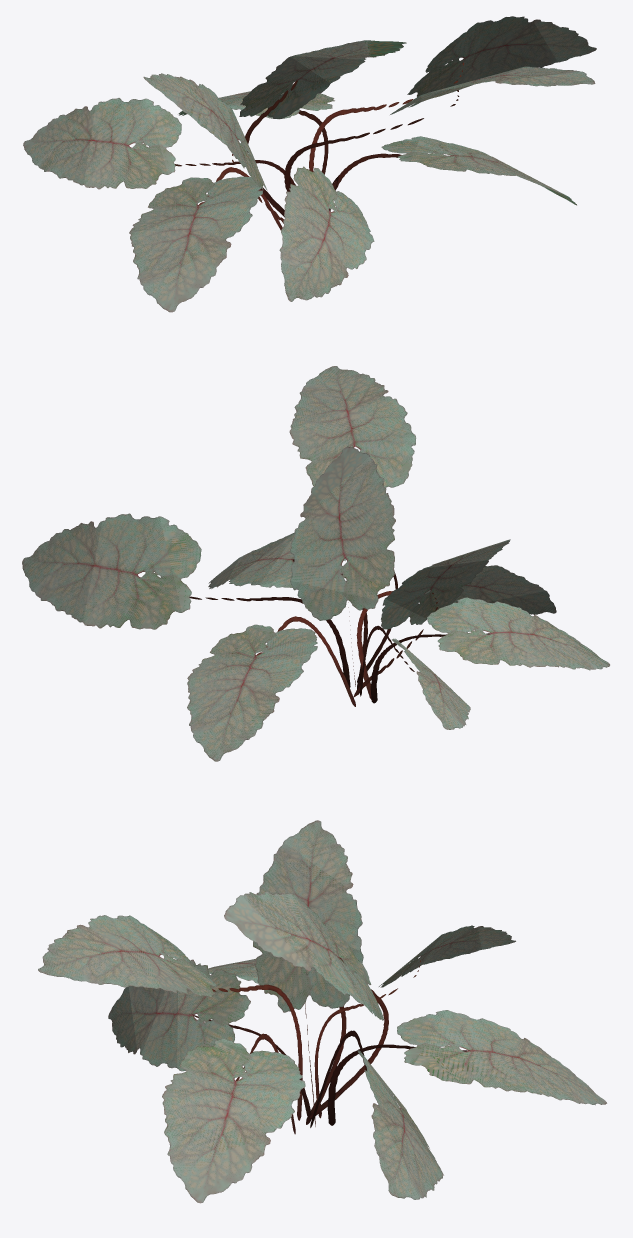
File: Spin Reef D3.fbx
The picture shows the model from 3 angles, top to bottom: view 1: azimuth 30°, elevation 25°; view 2: azimuth 150°, elevation 25°; view 3: azimuth 270°, elevation 25°; orthographic projection. The views are drawn at different scales.
Visible parts, largest first — view 1: Spin Reef D3; view 2: Spin Reef D3; view 3: Spin Reef D3.
Boxes of the visible parts, x1,y1,x2,y2 form: Spin Reef D3: [23, 16, 596, 312]; Spin Reef D3: [22, 366, 609, 761]; Spin Reef D3: [38, 820, 606, 1203].
Size of the model in its own units: 220 by 94.59 by 196.
